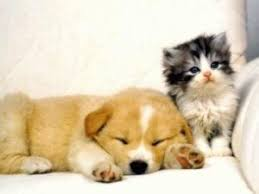cat: (160, 35, 238, 161)
dog: (1, 86, 205, 187)
